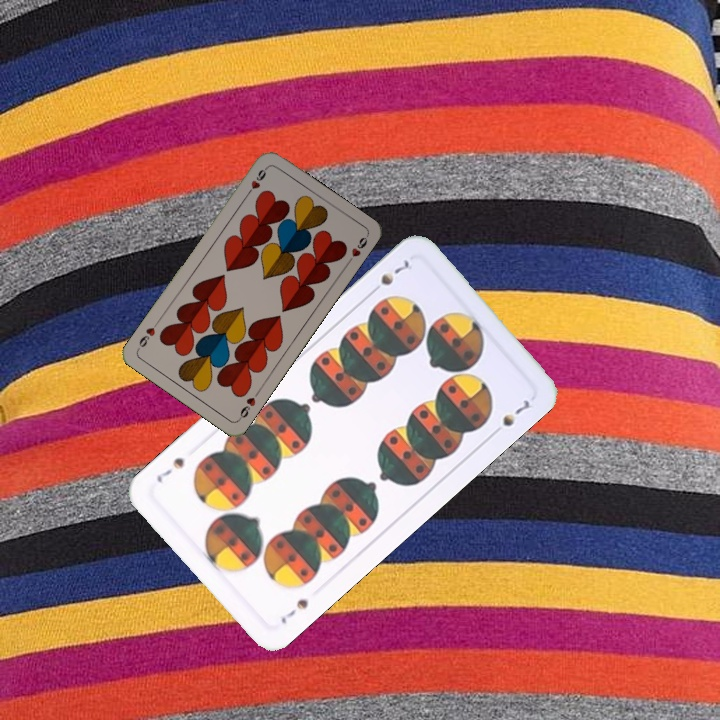H9: (242, 163, 271, 199), (234, 387, 262, 423)
S7: (365, 255, 412, 298), (276, 594, 311, 627)
